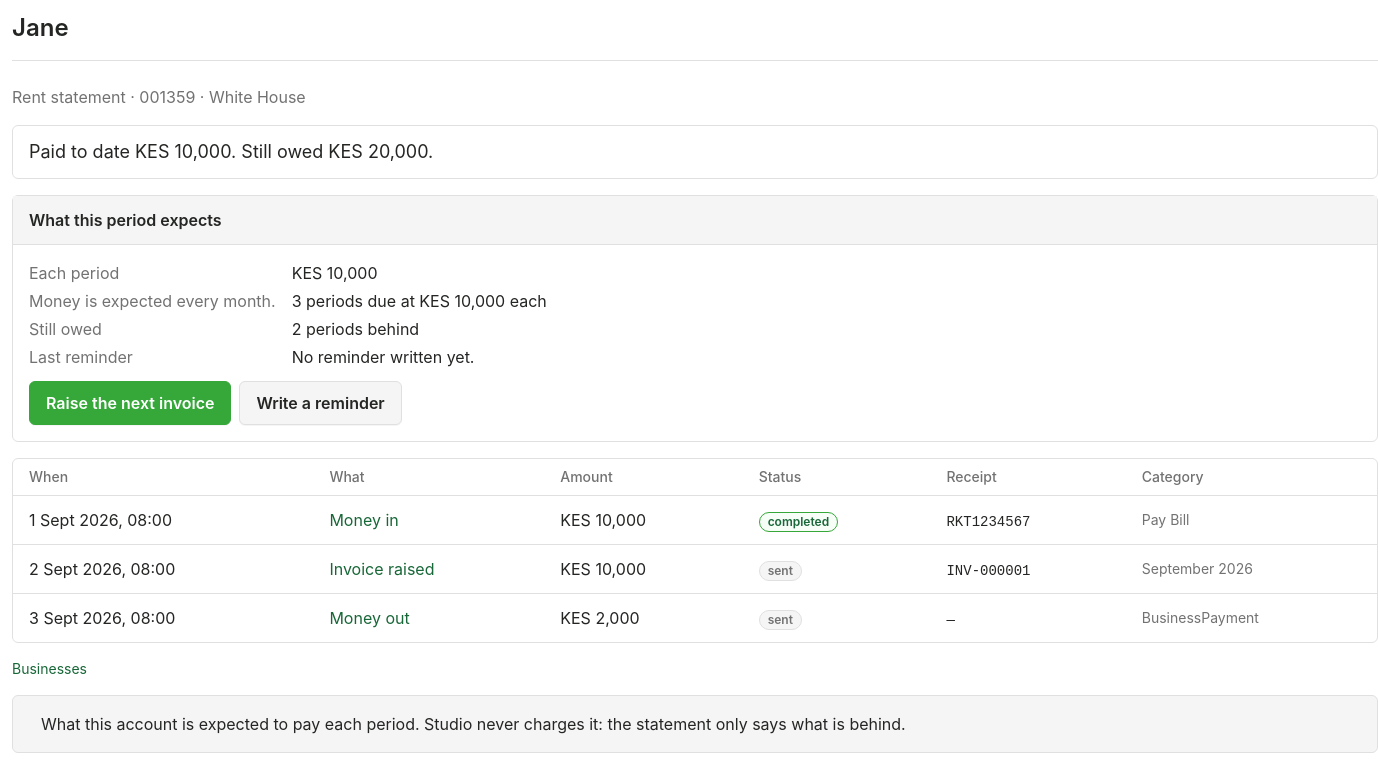
the account statement › raises the next invoice on one press, and writes a reminder on another
Click the button "Raise the next invoice". click: coordinates (130, 403)
box: [29,381,232,425]
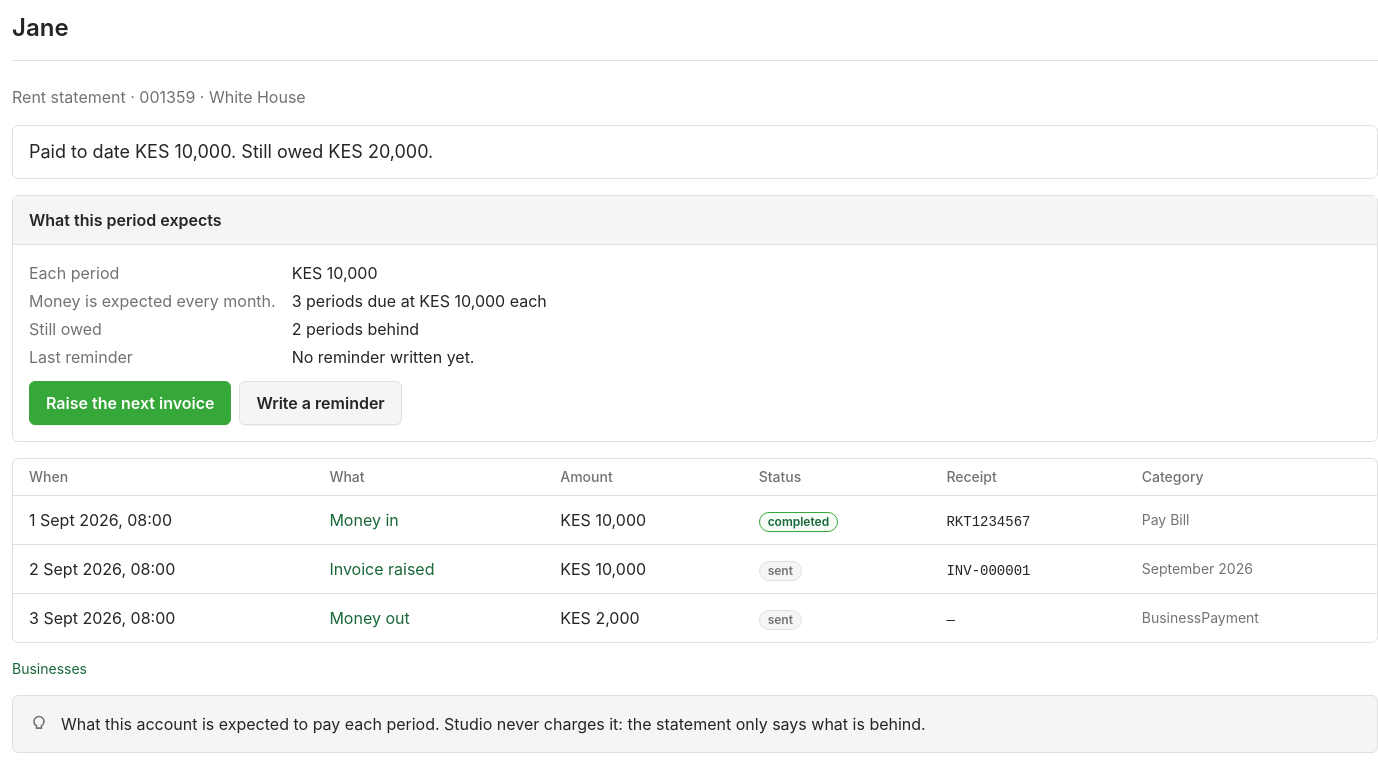
The statement is read again after the press, so the new invoice is on it.
Click the button "Write a reminder". click: coordinates (321, 403)
box: [240,381,402,425]
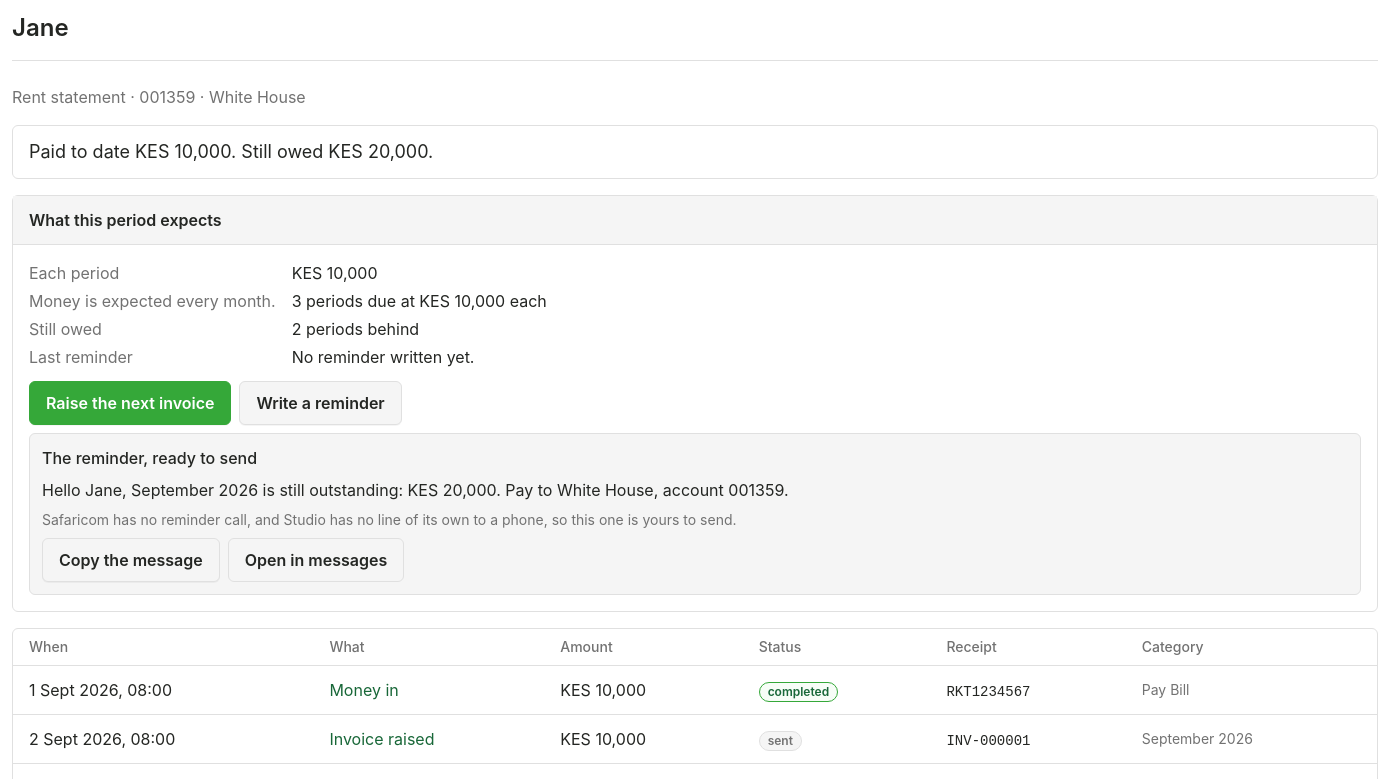
Now the element with test id "reminder" shows "Hello Jane", box [42,480,788,500]
Now the element with test id "reminder" shows "Safaricom has no reminder call, and Studio has no line of its own to a phone, so this one is yours to send.", box [42,511,736,528]
